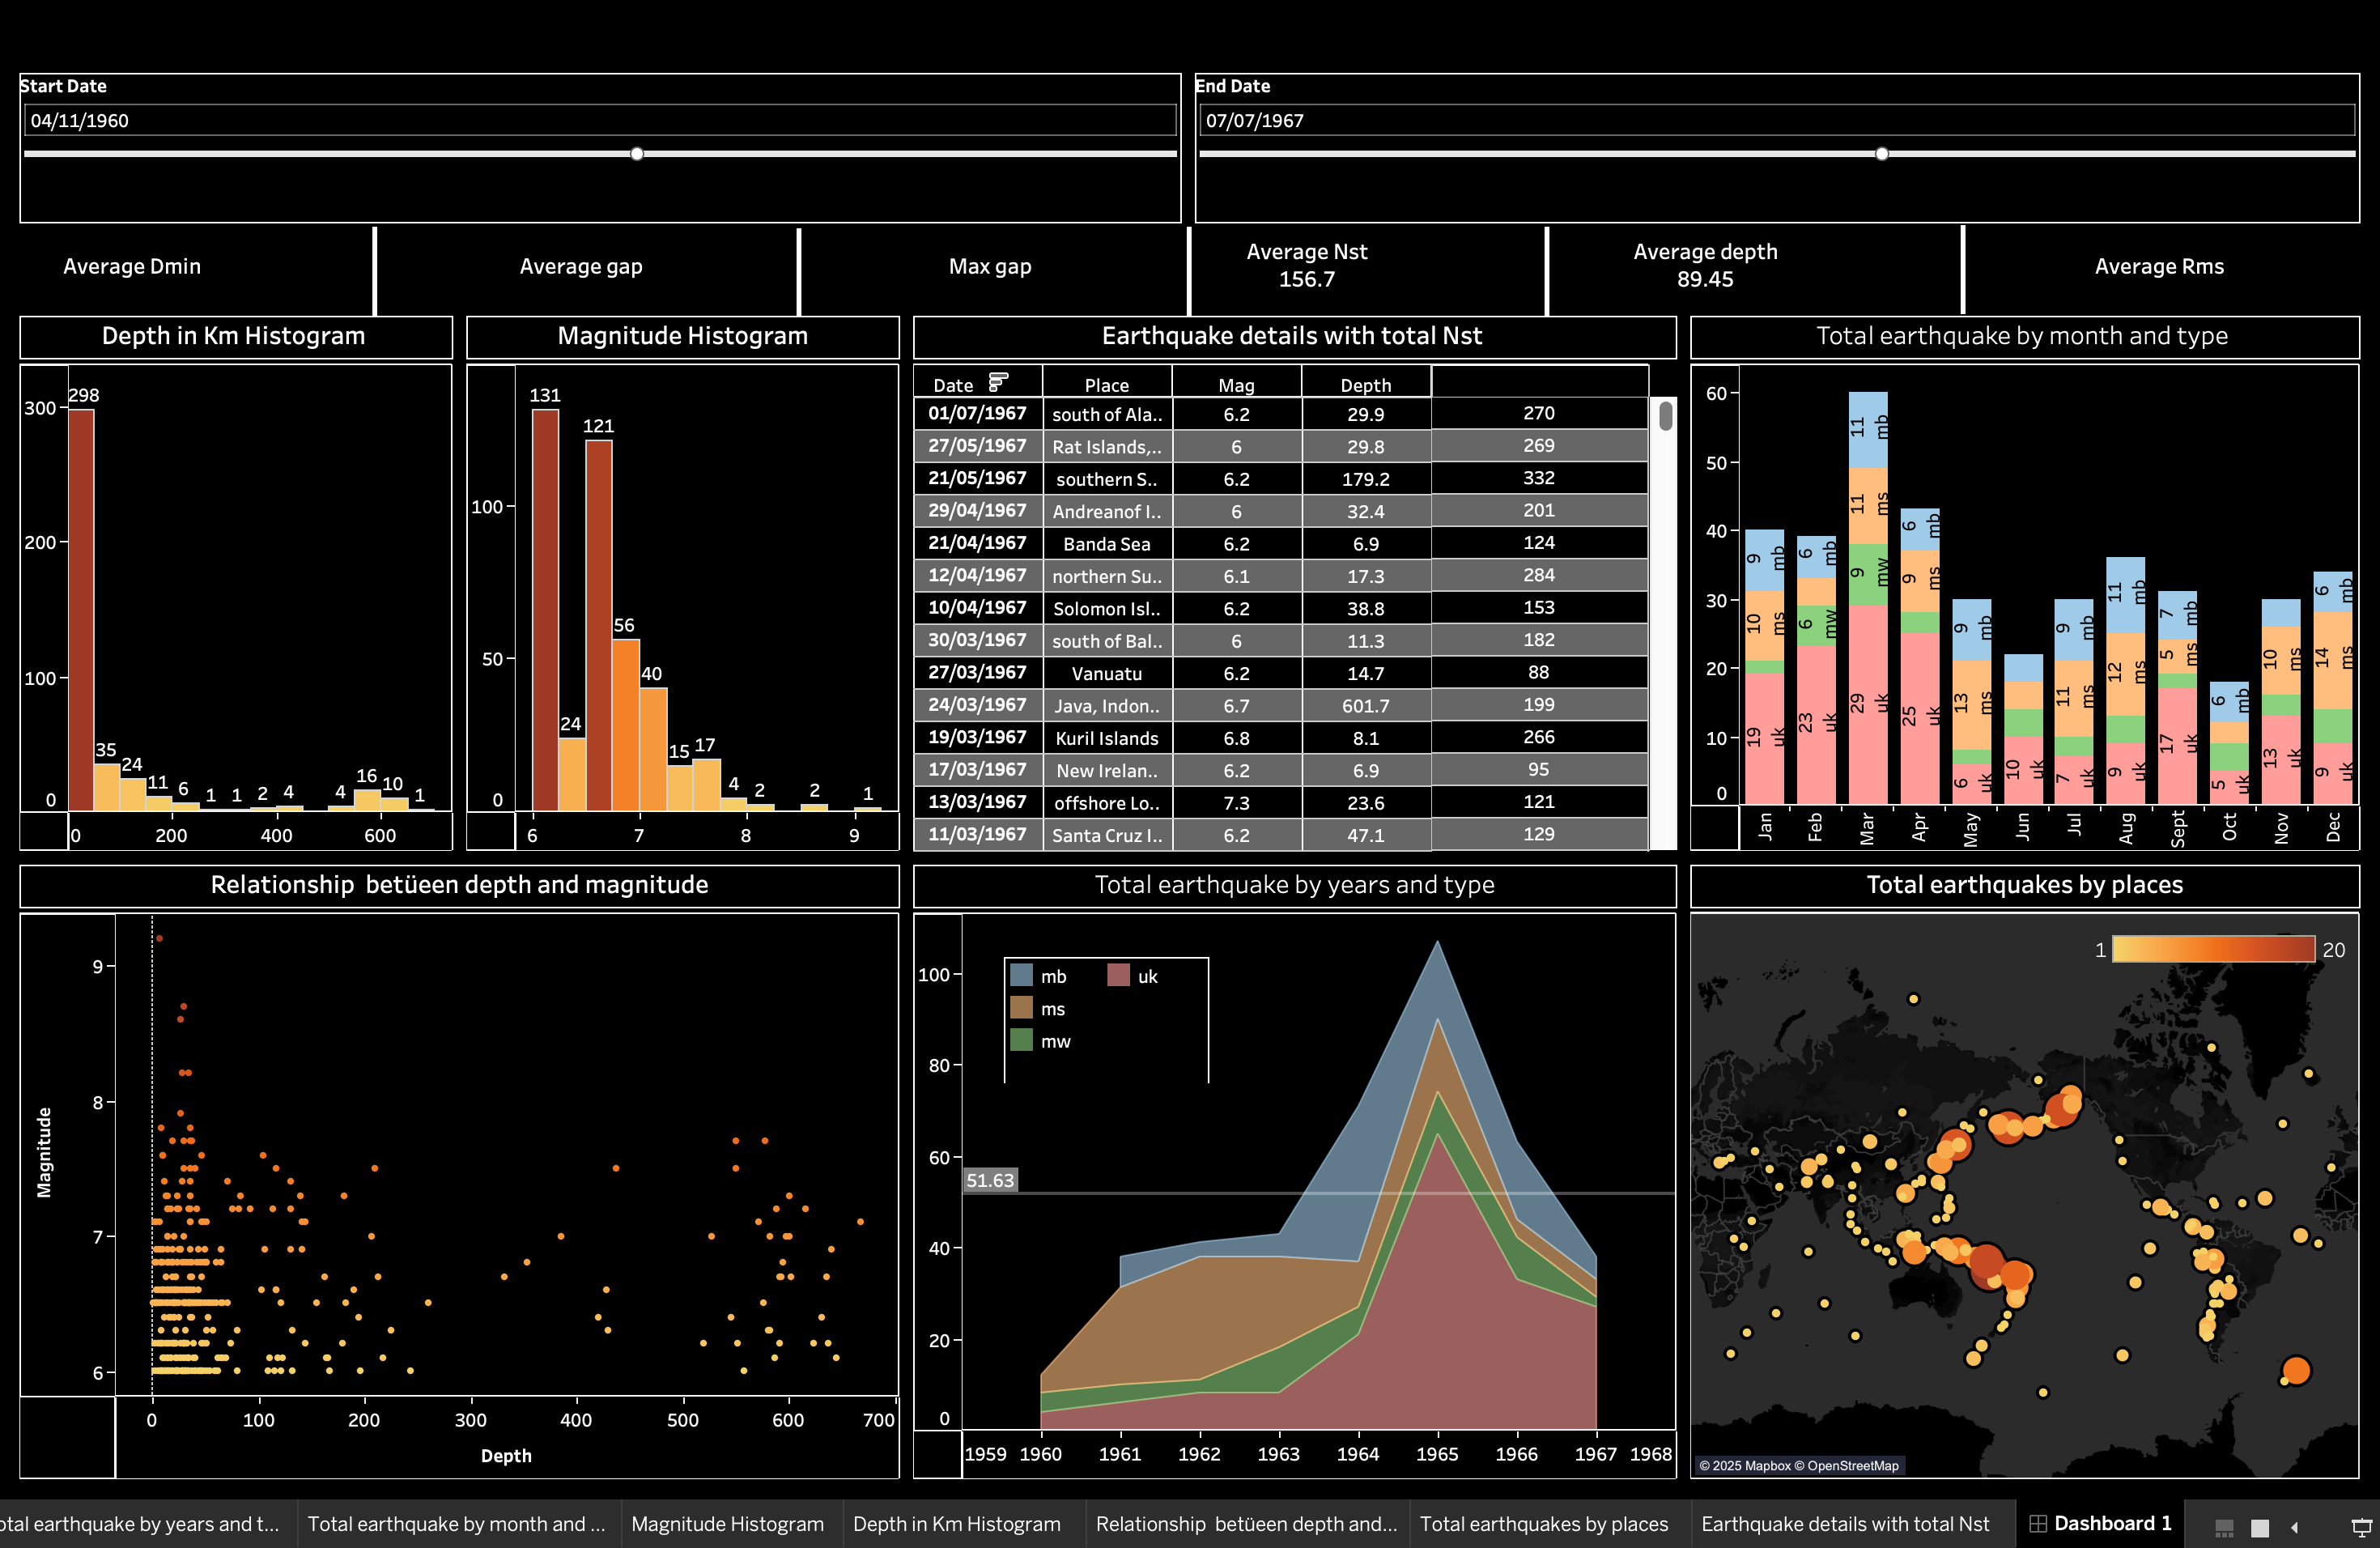

The dashboard page shown, as its layout file describes it:
{"tool":"tableau","page":{"name":"Dashboard 1","canvas":[1000,1000],"units":"permille","ordinal":0},"visuals":[{"type":"parameter","param":"[Parameters].[Parameter 1]","box":[5.5,10,493.8,113.2]},{"type":"parameter","param":"[Parameters].[Parameter 2]","box":[499.3,10,495.2,113.2]},{"type":"blank","box":[823.7,118.2,2.4,62.2]},{"type":"blank","box":[156.5,119.4,2.4,62.2]},{"type":"blank","box":[498.8,119.4,2.4,62.2]},{"type":"blank","box":[648.9,119.4,2.4,62.2]},{"type":"blank","box":[334.4,120.7,2.4,62.2]},{"type":"worksheet","title":"Sheet 1 (2)","mark":"Automatic","box":[5.5,123.1,151.1,54.7]},{"type":"worksheet","title":"Sheet 1 (3)","mark":"Automatic","box":[156.6,123.1,175.8,54.7]},{"type":"worksheet","title":"Sheet 1 (7)","mark":"Automatic","box":[332.5,123.1,167.1,54.7]},{"type":"worksheet","title":"Sheet 1 (4)","mark":"Automatic","box":[499.5,123.1,167.1,54.7]},{"type":"worksheet","title":"Sheet 1 (6)","mark":"Automatic","box":[666.6,123.1,155.2,54.7]},{"type":"worksheet","title":"Sheet 1 (5)","mark":"Automatic","box":[821.8,123.1,172.7,54.7]},{"type":"worksheet","title":"Depth in Km Histogram ","mark":"Automatic","rows":["depth"],"cols":["Depth (bin)"],"box":[5.5,177.8,187.6,378.8]},{"type":"worksheet","title":"Magnitude Histogram","mark":"Automatic","rows":["mag"],"cols":["Mag (bin)"],"box":[193.1,177.8,187.7,378.8]},{"type":"worksheet","title":"Earthquake details with total Nst ","mark":"Automatic","rows":["Date","place","mag","depth"],"box":[380.8,177.8,326.4,378.8]},{"type":"worksheet","title":"Total earthquake by month and type ","mark":"Bar","rows":["id"],"cols":["Date"],"box":[707.2,177.8,287.3,378.8]},{"type":"worksheet","title":"Relationship  betüeen depth and magnitude","mark":"Automatic","rows":["mag"],"cols":["depth"],"box":[5.5,556.6,375.2,433.5]},{"type":"worksheet","title":"Total earthquake by years and type","mark":"Area","rows":["id"],"cols":["Date"],"box":[380.8,556.6,326.4,433.5]},{"type":"worksheet","title":"Total earthquakes by places","mark":"Automatic","rows":["latitude"],"cols":["longitude"],"box":[707.2,556.6,287.3,433.5]},{"type":"legend","title":"Total earthquakes by places","param":"[federated.0gxd0uf0qpp5691e2t33f011pgbs].[cnt:id:qk]","box":[877.4,605.7,111.5,36.1]},{"type":"legend","title":"Total earthquake by years and type","param":"[federated.0gxd0uf0qpp5691e2t33f011pgbs].[none:magType:nk]","box":[421.8,624.4,86.6,88.3]}]}

Visuals, with their boxes on the dashboard's canvas, which has no fixed pixel size, in thousandths of its width and height (x1, y1, x2, y2). These are canvas units, not pixel positions in the 2380x1548 screenshot, which may show the page scaled, cropped or inside an application window:
parameter: [left=6, top=10, right=499, bottom=123]
parameter: [left=499, top=10, right=994, bottom=123]
blank: [left=824, top=118, right=826, bottom=180]
blank: [left=156, top=119, right=159, bottom=182]
blank: [left=499, top=119, right=501, bottom=182]
blank: [left=649, top=119, right=651, bottom=182]
blank: [left=334, top=121, right=337, bottom=183]
"Sheet 1 (2)" worksheet: [left=6, top=123, right=157, bottom=178]
"Sheet 1 (3)" worksheet: [left=157, top=123, right=332, bottom=178]
"Sheet 1 (7)" worksheet: [left=332, top=123, right=500, bottom=178]
"Sheet 1 (4)" worksheet: [left=500, top=123, right=667, bottom=178]
"Sheet 1 (6)" worksheet: [left=667, top=123, right=822, bottom=178]
"Sheet 1 (5)" worksheet: [left=822, top=123, right=994, bottom=178]
"Depth in Km Histogram " worksheet: [left=6, top=178, right=193, bottom=557]
"Magnitude Histogram" worksheet: [left=193, top=178, right=381, bottom=557]
"Earthquake details with total Nst " worksheet: [left=381, top=178, right=707, bottom=557]
"Total earthquake by month and type " worksheet (Bar marks): [left=707, top=178, right=994, bottom=557]
"Relationship  betüeen depth and magnitude" worksheet: [left=6, top=557, right=381, bottom=990]
"Total earthquake by years and type" worksheet (Area marks): [left=381, top=557, right=707, bottom=990]
"Total earthquakes by places" worksheet: [left=707, top=557, right=994, bottom=990]
"Total earthquakes by places" legend: [left=877, top=606, right=989, bottom=642]
"Total earthquake by years and type" legend: [left=422, top=624, right=508, bottom=713]
